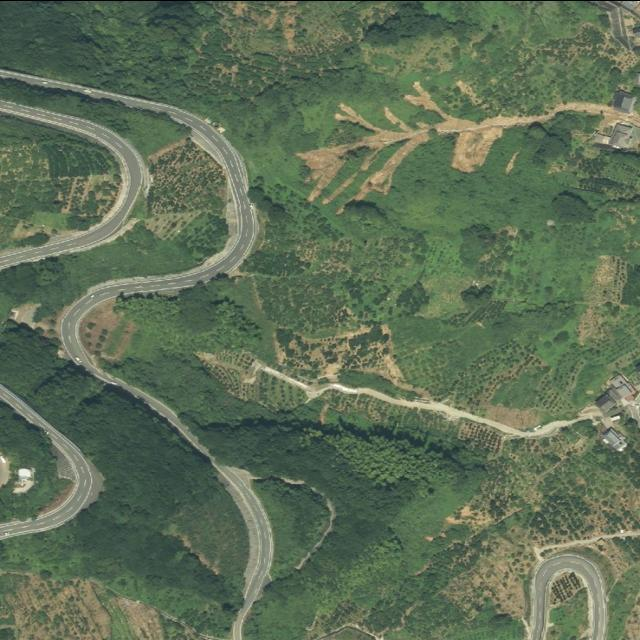landslide: (297, 81, 623, 212)
